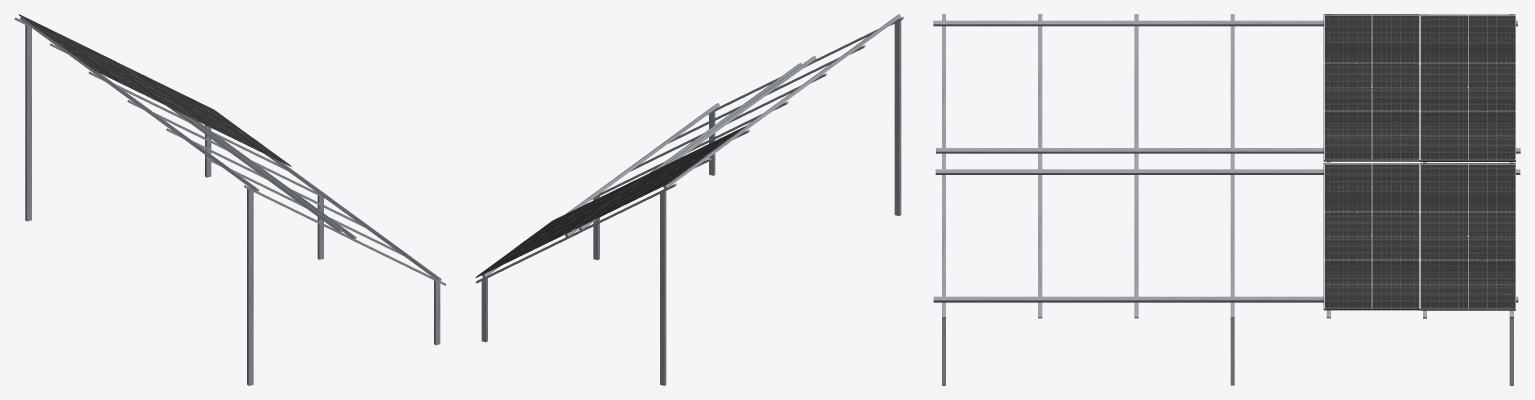
File: solar_panel_ground_4.glb
The picture shows the model from 3 angles, left to right: view 1: azimuth 30°, elevation 25°; view 2: azimuth 150°, elevation 25°; view 3: azimuth 270°, elevation 25°; orthographic projection. The views are drawn at different scales.
Visible parts, largest first — view 1: konstrukcja_metal.025, konstrukcja_metal.009, konstrukcja_metal.014, panel.006, panel.001, panel.005, panel, konstrukcja_metal.001, konstrukcja_metal.002, konstrukcja_metal.003, konstrukcja_metal.012; view 2: konstrukcja_metal.025, konstrukcja_metal.009, konstrukcja_metal.014, panel.005, panel, panel.006, panel.001, konstrukcja_metal.001, konstrukcja_metal.002, konstrukcja_metal.003, konstrukcja_metal.004; view 3: panel.006, panel.001, panel, panel.005, konstrukcja_metal.001, konstrukcja_metal.014, konstrukcja_metal.003, konstrukcja_metal.002, konstrukcja_metal.019, konstrukcja_metal.018, konstrukcja_metal.020, konstrukcja_metal.010 (+4 smaller).
Part boxes in pixels (x1,y1,x2,y2): konstrukcja_metal.025: (247, 189, 253, 385); konstrukcja_metal.009: (25, 25, 31, 221); konstrukcja_metal.014: (20, 17, 259, 192); panel.006: (57, 42, 193, 118); panel.001: (156, 90, 291, 166); panel.005: (18, 14, 152, 88); panel: (117, 62, 250, 136); konstrukcja_metal.001: (265, 154, 441, 281); konstrukcja_metal.002: (167, 106, 342, 232); konstrukcja_metal.003: (186, 115, 356, 239); konstrukcja_metal.012: (434, 280, 440, 345); konstrukcja_metal.025: (894, 20, 901, 216); konstrukcja_metal.009: (660, 191, 666, 385); konstrukcja_metal.014: (663, 14, 901, 189); panel.005: (573, 154, 707, 229); panel: (475, 202, 609, 277); panel.006: (612, 126, 746, 200); panel.001: (514, 174, 647, 248); konstrukcja_metal.001: (482, 103, 719, 278); konstrukcja_metal.002: (578, 56, 816, 230); konstrukcja_metal.003: (565, 63, 801, 237); konstrukcja_metal.004: (481, 278, 487, 342); panel.006: (1323, 14, 1419, 161); panel.001: (1323, 163, 1419, 310); panel: (1420, 163, 1515, 310); panel.005: (1420, 14, 1515, 161); konstrukcja_metal.001: (933, 296, 1518, 302); konstrukcja_metal.014: (933, 20, 1517, 26); konstrukcja_metal.003: (935, 169, 1520, 174); konstrukcja_metal.002: (936, 148, 1520, 153); konstrukcja_metal.019: (1134, 14, 1138, 168); konstrukcja_metal.018: (1230, 14, 1234, 168); konstrukcja_metal.020: (1038, 14, 1042, 168); konstrukcja_metal.010: (1134, 168, 1138, 318).
Bounding box in the file's own units: 6.8 × 6.68 × 13.84.
2 materials, 2 textured.
